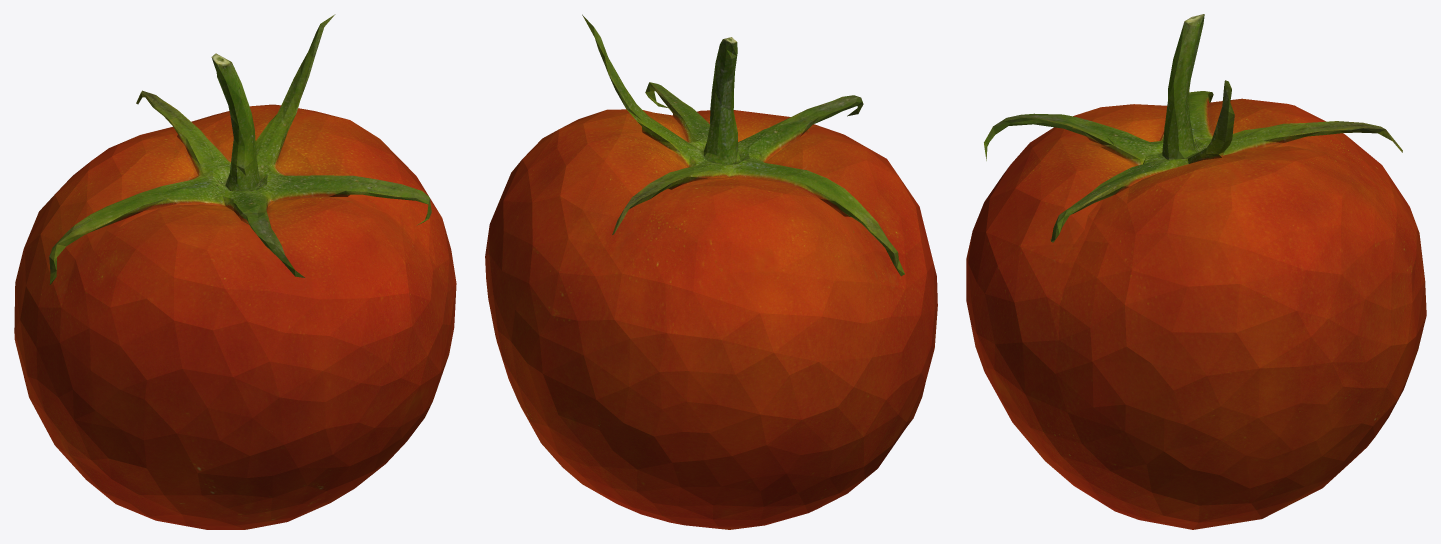
The model's file is 0TYEWW4X9XCJ5M7LB7JKCMAPU.obj.
3 views of the same model, side by side, from view 1: azimuth 30°, elevation 25°; view 2: azimuth 150°, elevation 25°; view 3: azimuth 270°, elevation 25° (orthographic). The views are drawn at different scales.
Visible parts, largest first — view 1: Object_TexMap; view 2: Object_TexMap; view 3: Object_TexMap.
Part boxes in pixels (x1=…): Object_TexMap: x1=14, y1=14, x2=456, y2=529; Object_TexMap: x1=485, y1=14, x2=937, y2=529; Object_TexMap: x1=966, y1=14, x2=1426, y2=529.
Bounding box in the file's own units: 2.19 × 2.5 × 2.15.
1 material, 1 textured.
